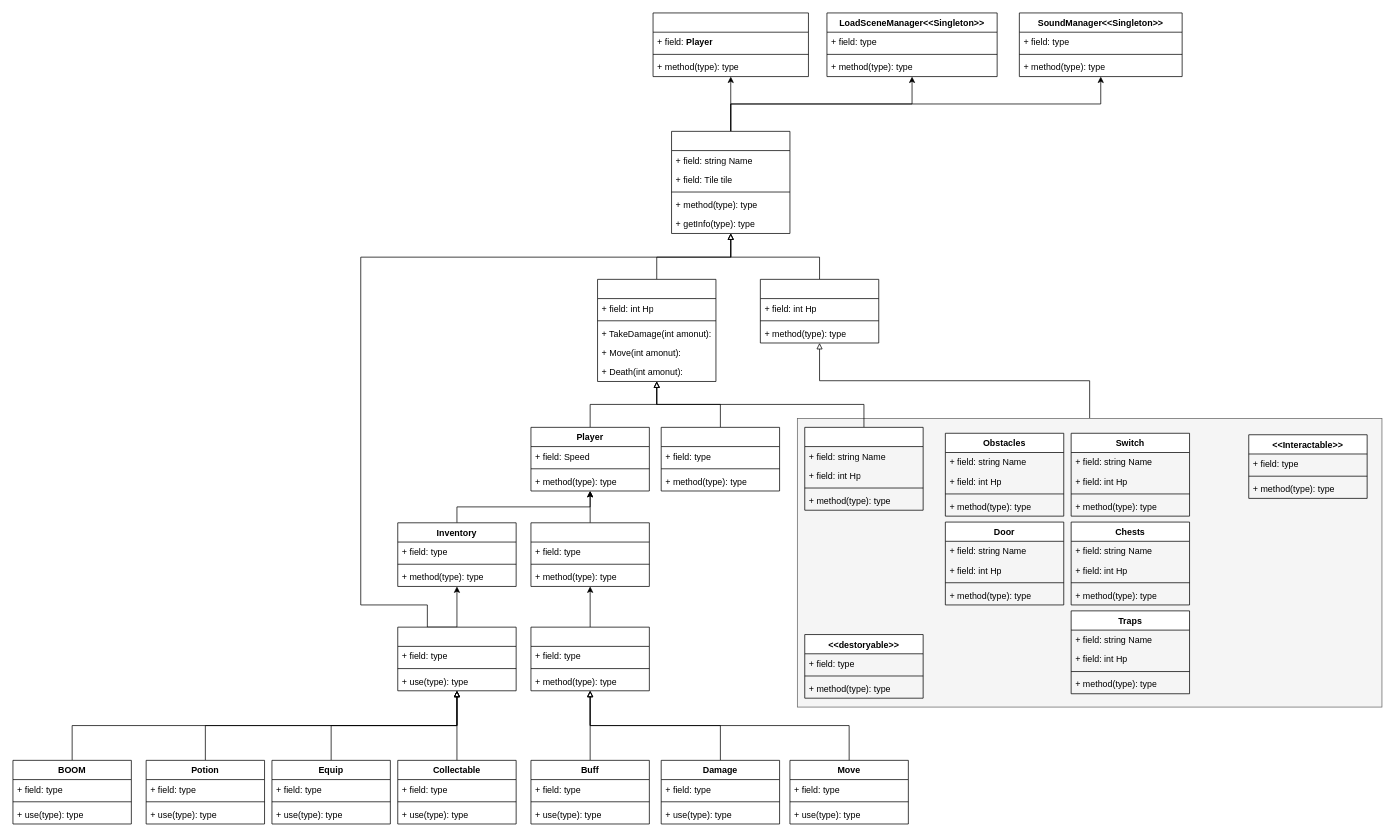
This 1395x839 diagram has some shape labels left out. The shapes that lost their labels are listed below. From the top down, each one's box as (x1, y1, x2, y2) in pixels, then its label:
(652, 12, 808, 77): Gamemanager <<Singleton>>
(671, 131, 790, 233): Identity
(597, 279, 716, 381): Character
(760, 279, 879, 343): Stuff
(660, 427, 780, 491): Enemy
(804, 427, 923, 510): NPC
(530, 522, 649, 586): Skill book
(397, 626, 516, 691): Item
(530, 626, 649, 691): Skill
